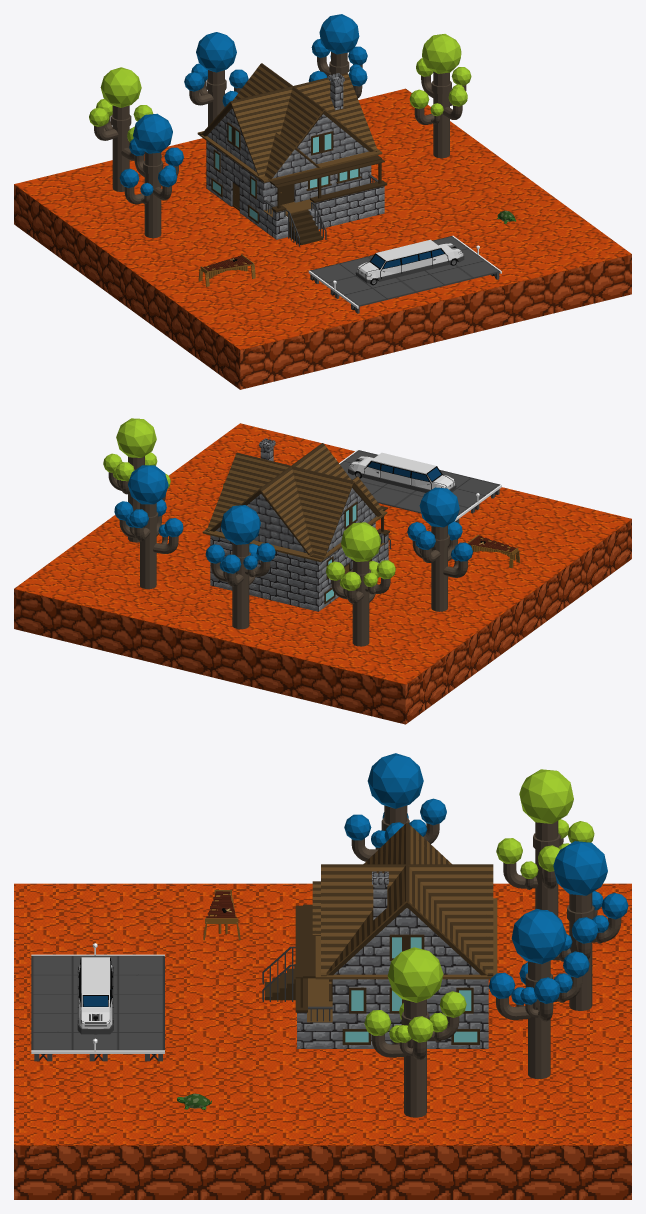
The picture shows the model from 3 angles, top to bottom: view 1: azimuth 30°, elevation 25°; view 2: azimuth 150°, elevation 25°; view 3: azimuth 270°, elevation 25°; orthographic projection. The views are drawn at different scales.
Visible parts, largest first — view 1: Cube.001, Cube.586, VEHICLES_LIMOUSINE, OBJRANDOM_MARIMBA; view 2: Cube.001, Cube.586, VEHICLES_LIMOUSINE, OBJRANDOM_MARIMBA; view 3: Cube.001, Cube.586, VEHICLES_LIMOUSINE, OBJRANDOM_MARIMBA.
Part boxes in pixels (bbox=[...]): Cube.001: bbox=[14, 14, 631, 389]; Cube.586: bbox=[197, 63, 387, 246]; VEHICLES_LIMOUSINE: bbox=[355, 239, 464, 285]; OBJRANDOM_MARIMBA: bbox=[198, 254, 255, 286]; Cube.001: bbox=[14, 418, 631, 724]; Cube.586: bbox=[202, 438, 390, 611]; VEHICLES_LIMOUSINE: bbox=[348, 452, 456, 492]; OBJRANDOM_MARIMBA: bbox=[467, 534, 520, 568]; Cube.001: bbox=[14, 753, 631, 1199]; Cube.586: bbox=[262, 823, 497, 1048]; VEHICLES_LIMOUSINE: bbox=[77, 957, 113, 1034]; OBJRANDOM_MARIMBA: bbox=[203, 890, 240, 940].
Bounding box in the file's own units: 4000 × 1687 × 4000.
36 materials, 6 textured.
